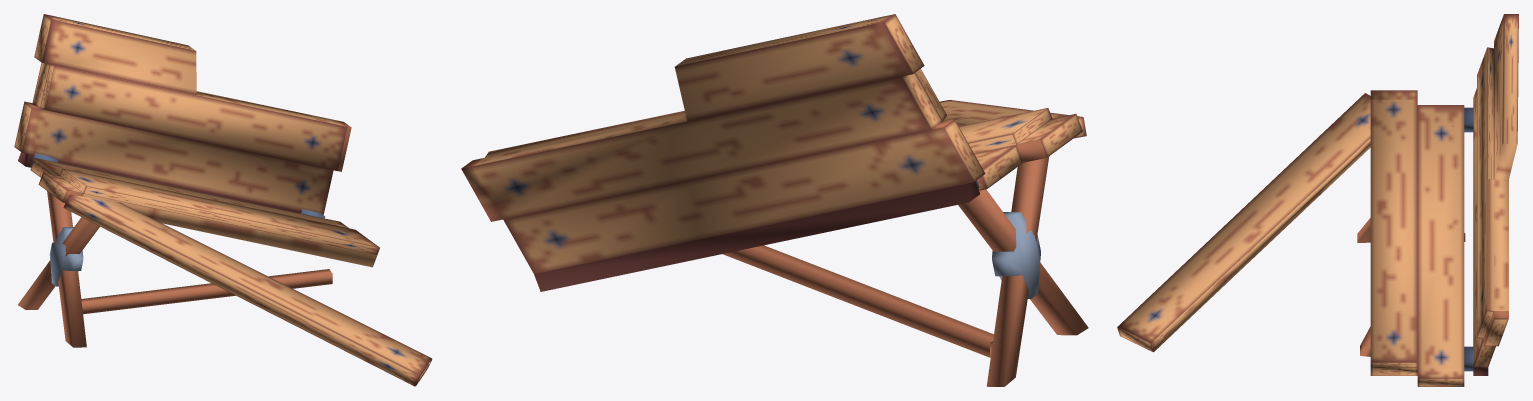
Rendered from BancoQuebrado.fbx.
3 views of the same model, side by side, from view 1: azimuth 30°, elevation 25°; view 2: azimuth 150°, elevation 25°; view 3: azimuth 270°, elevation 25° (orthographic). The views are drawn at different scales.
Visible parts, largest first — view 1: Banco.002; view 2: Banco.002; view 3: Banco.002.
Boxes of the visible parts, <box> form: Banco.002: <box>14,14,432,386</box>; Banco.002: <box>461,14,1088,386</box>; Banco.002: <box>1117,14,1518,386</box>.
Size of the model in its own units: 142 by 101 by 146.
